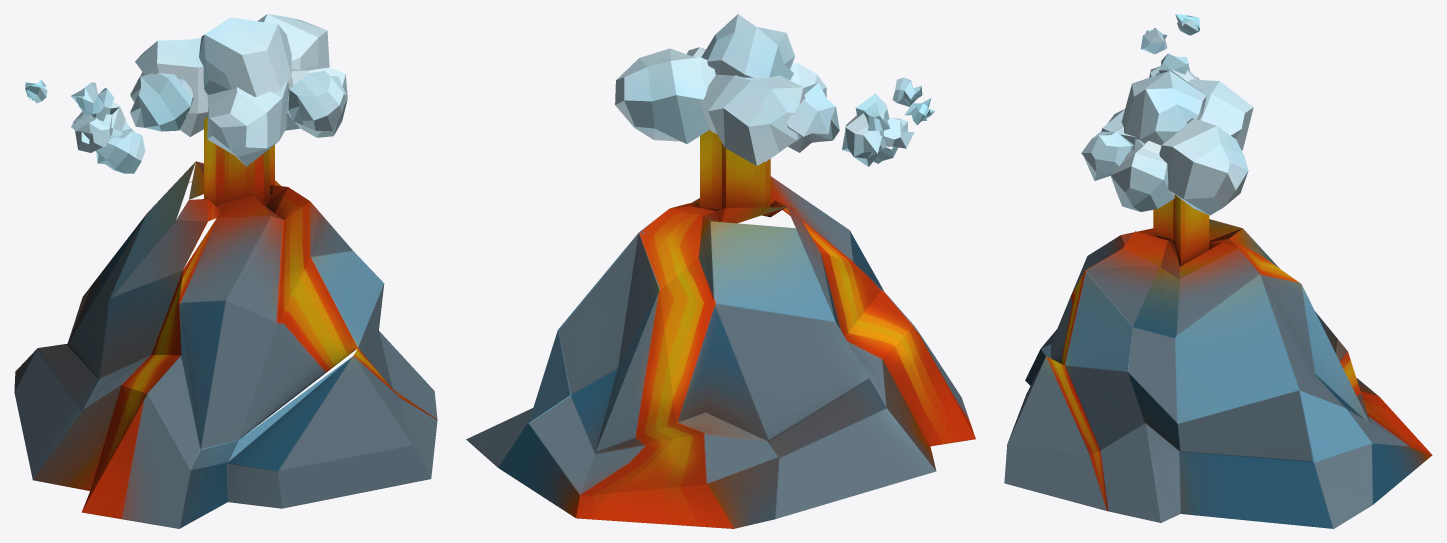
The picture shows the model from 3 angles, left to right: view 1: azimuth 30°, elevation 25°; view 2: azimuth 150°, elevation 25°; view 3: azimuth 270°, elevation 25°; orthographic projection. The views are drawn at different scales.
Parts seen in each view (by area): view 1: Volcano_mesh; view 2: Volcano_mesh; view 3: Volcano_mesh.
Boxes of the visible parts, x1,y1,x2,y2 form: Volcano_mesh: [14, 14, 437, 528]; Volcano_mesh: [466, 14, 975, 528]; Volcano_mesh: [1004, 14, 1432, 528].
Bounding box in the file's own units: 14.9 × 14.66 × 15.5.
1 material, 1 textured.
